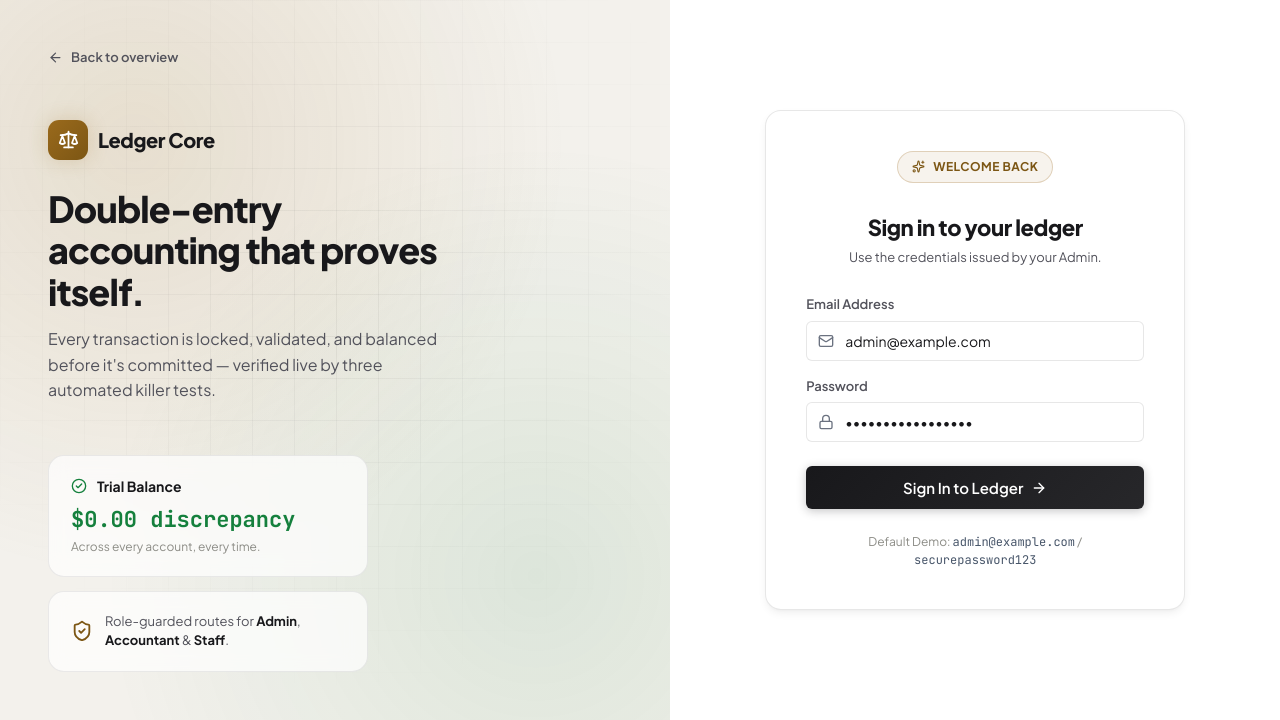
Test case: Frontend Component Tests › LoginPage Component › should handle login submission and display API error on failure
Type "wrong@example.com" into the field labelled "Email Address".
click(975, 341); type("wrong@example.com")  # box x1=806 y1=321 x2=1144 y2=361
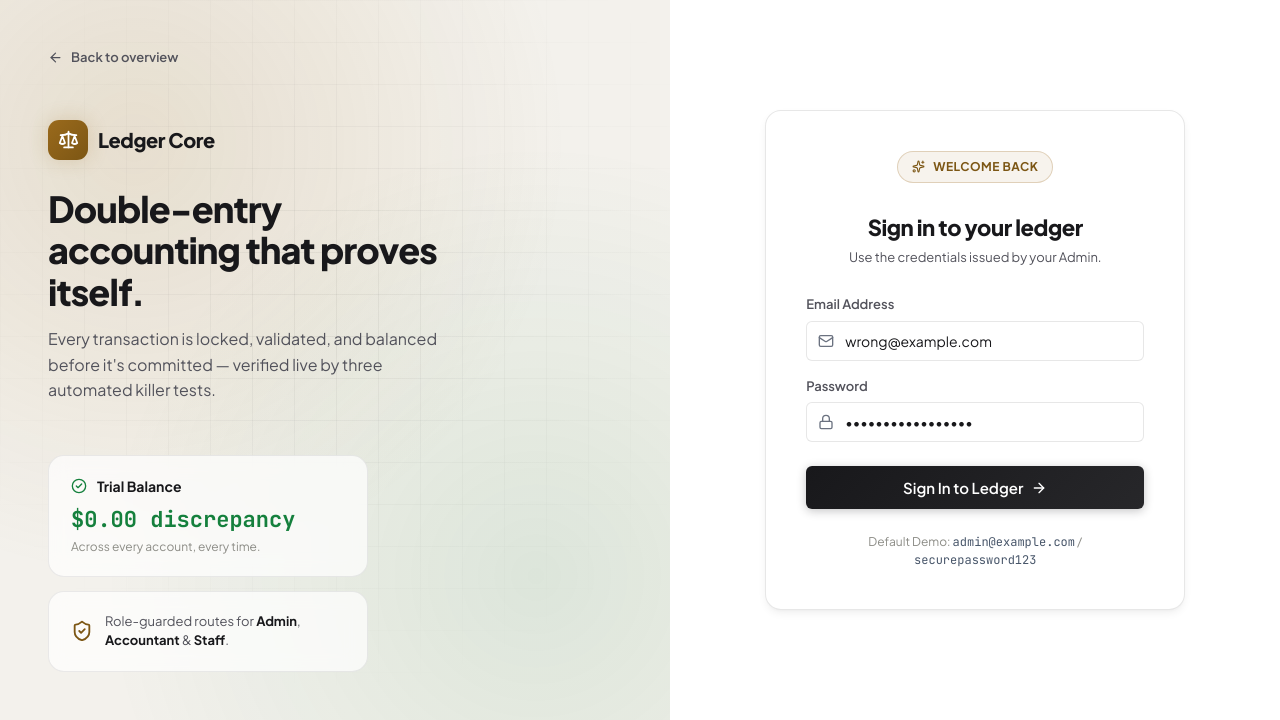
Type "wrongpass" into the password field labelled "Password".
click(975, 422); type("wrongpass")  # box x1=806 y1=402 x2=1144 y2=442
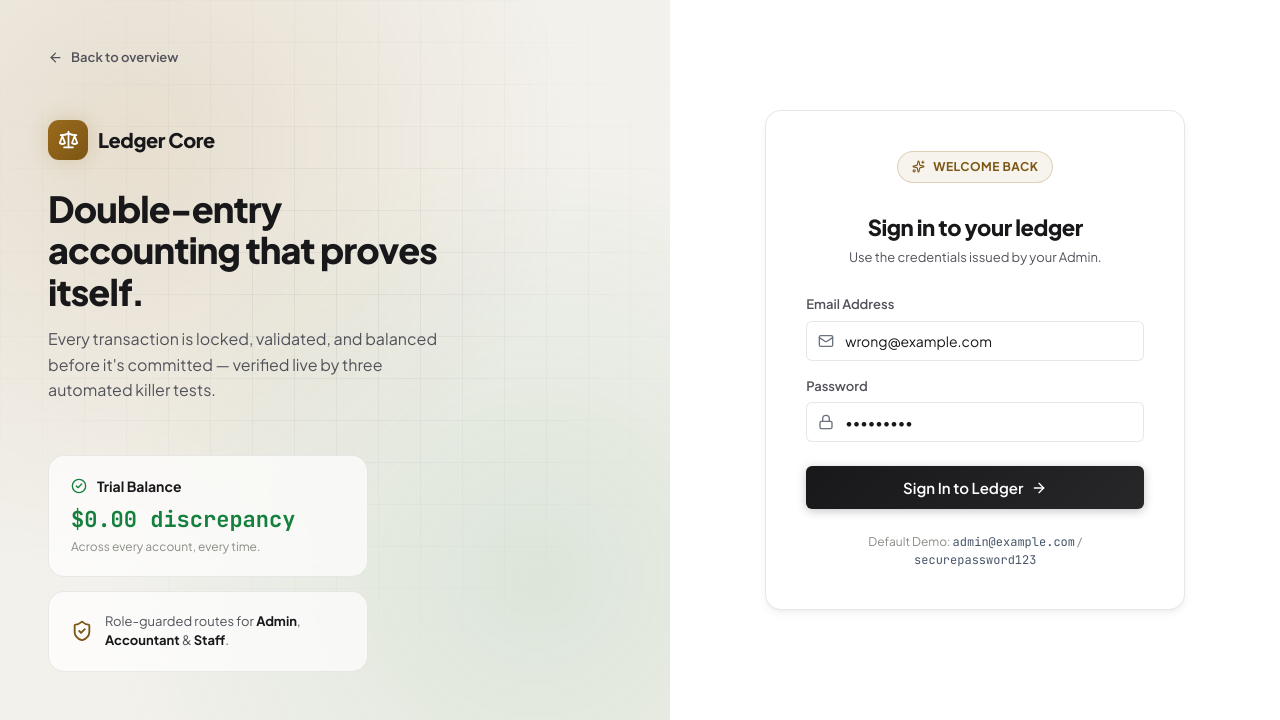
Click the button "Sign In to Ledger".
click(975, 488)  # box x1=806 y1=466 x2=1144 y2=509
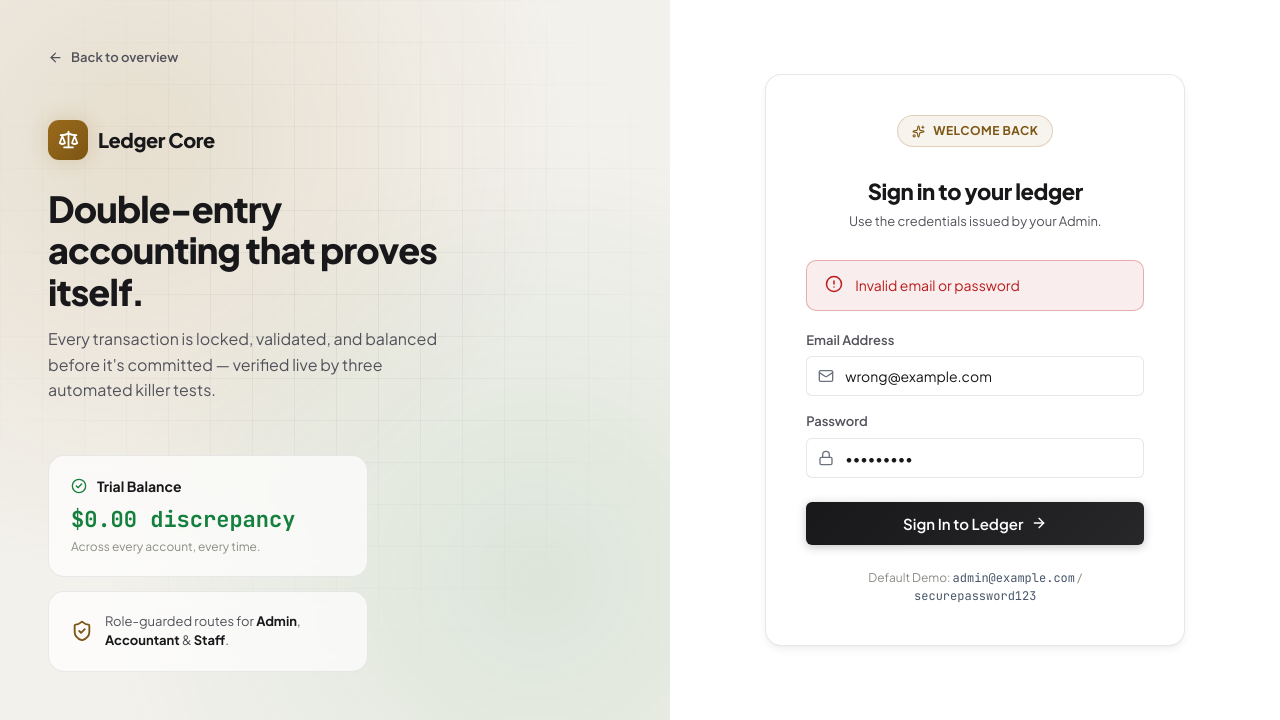
Expected: the text "Invalid email or password" is shown, x1=855 y1=275 x2=1020 y2=296
